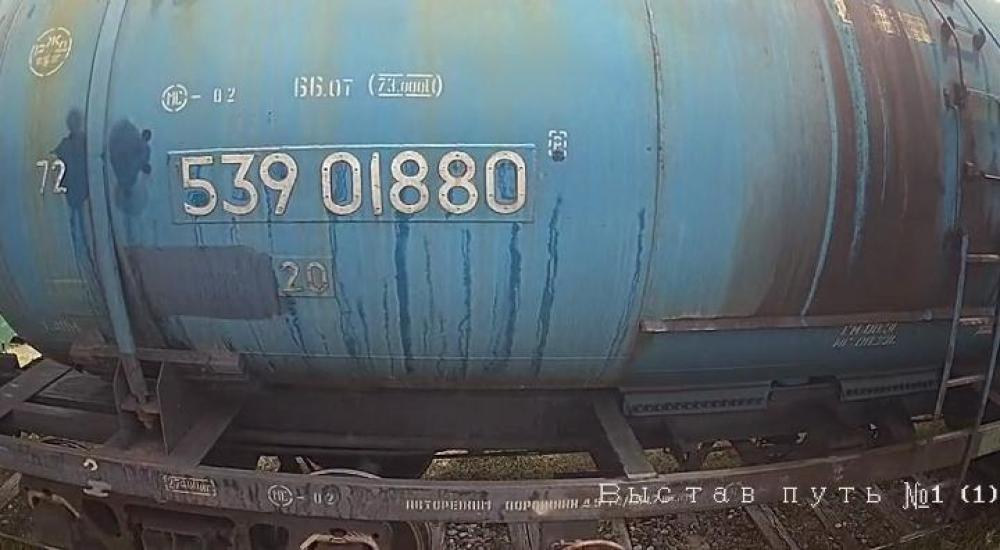Wagon-number: (172, 148, 536, 222)
